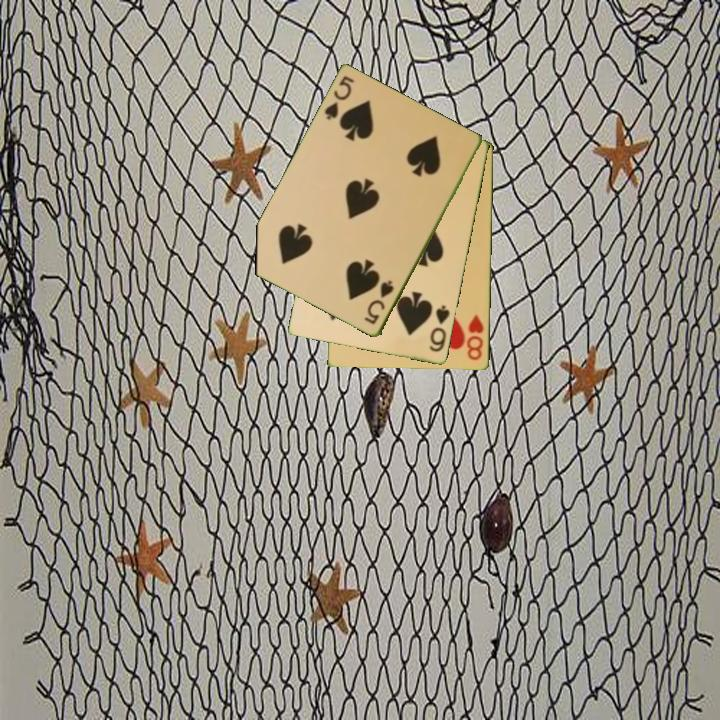5s: (361, 277, 397, 328), (321, 72, 357, 123)
6s: (426, 302, 453, 355)
8h: (464, 311, 487, 363)
